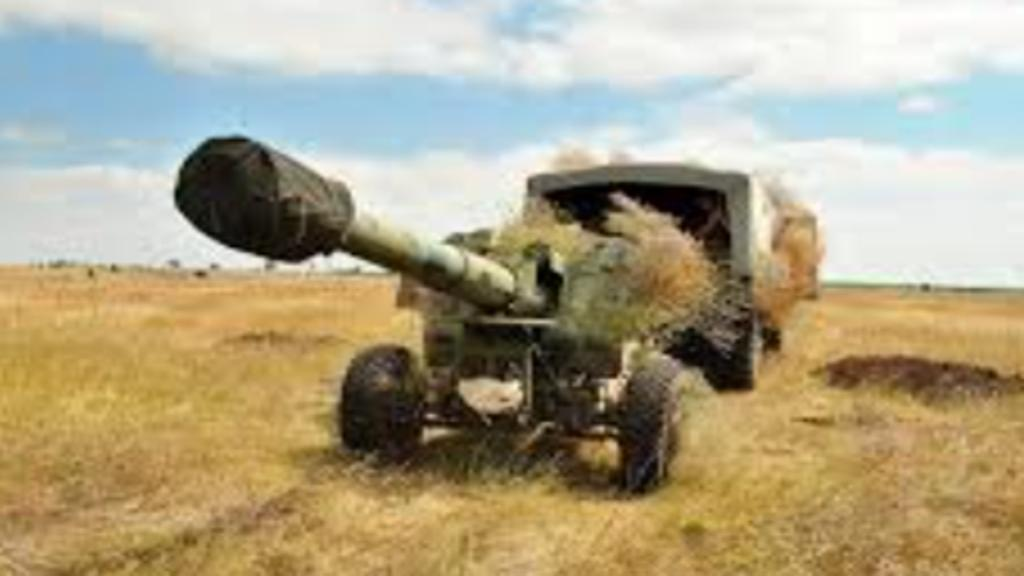ART: (164, 134, 682, 485)
TRUCK: (516, 159, 804, 389)
